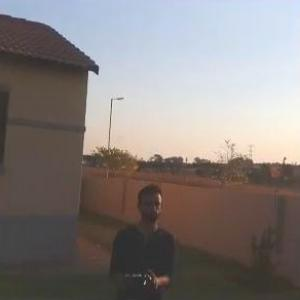follow: (103, 178, 181, 299)
